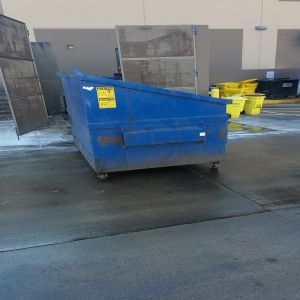Dumpster: (63, 90, 213, 182)
